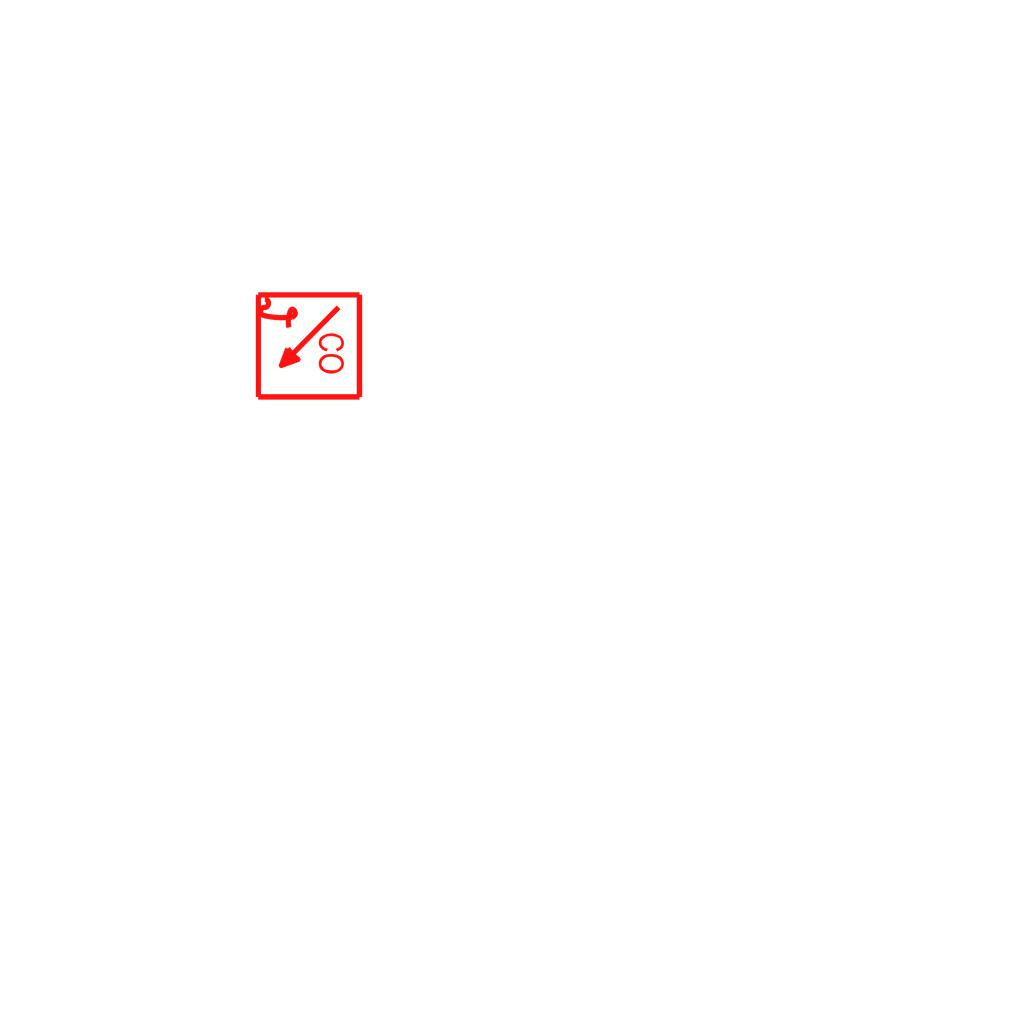ROA_Rauchmelder_optisch_mit_Signalgeber_(Sockelsirene): (251, 290, 364, 403)
